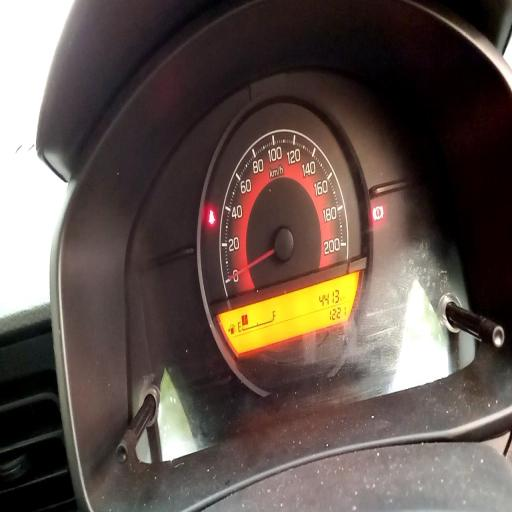belt: (208, 209, 215, 226)
brake_system_fault: (372, 205, 384, 221)
